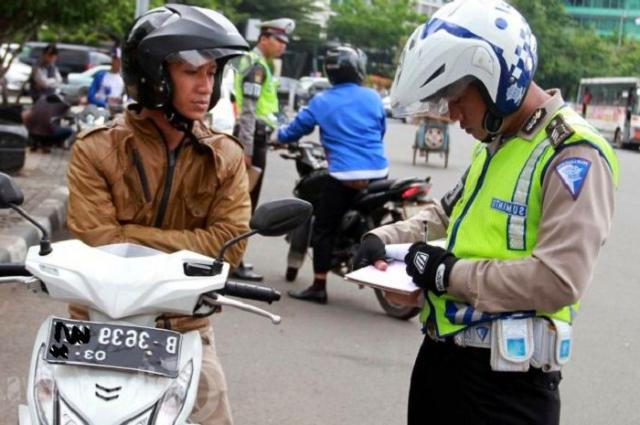helm: (386, 1, 543, 151), (122, 6, 251, 132), (322, 42, 370, 91)
motor: (2, 195, 311, 425)
